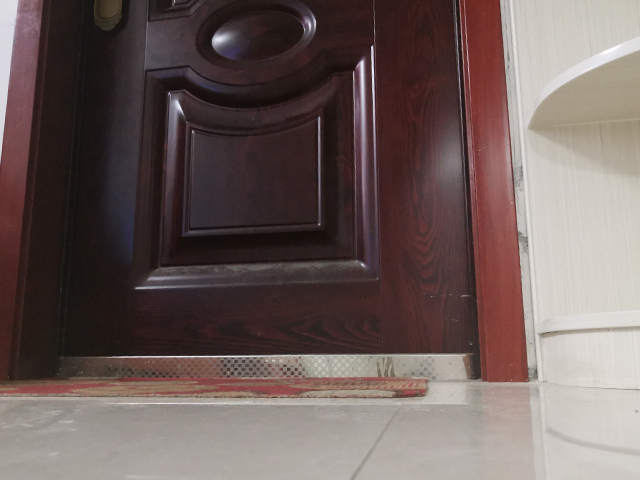carpet: (1, 374, 428, 398)
